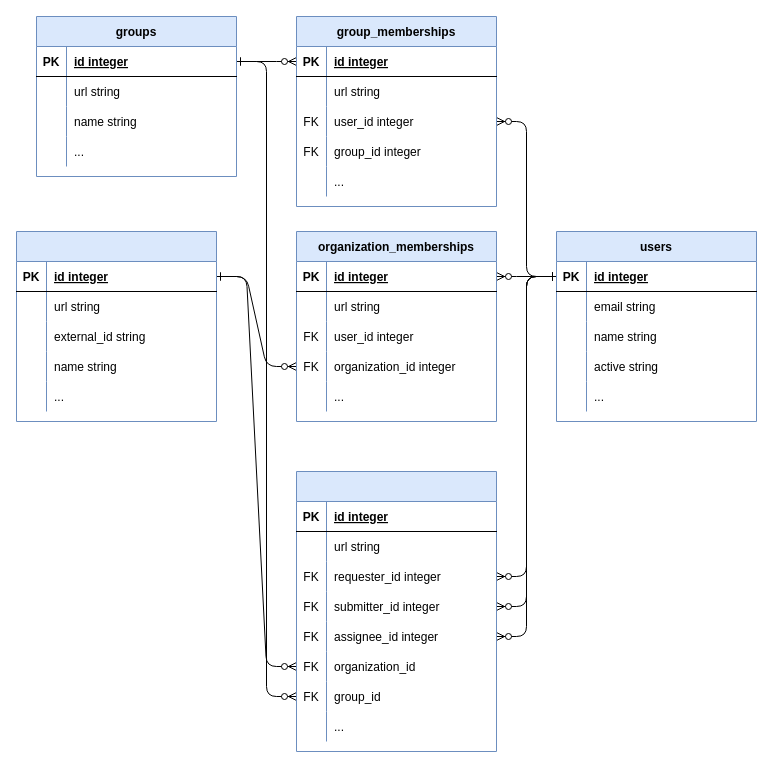
This 773x768 diagram has some shape labels left out. The box of each missing label's shape, as (x1, y1, x2, y2) in pixels:
organizations: (16, 230, 216, 422)
tickets: (296, 470, 496, 752)
